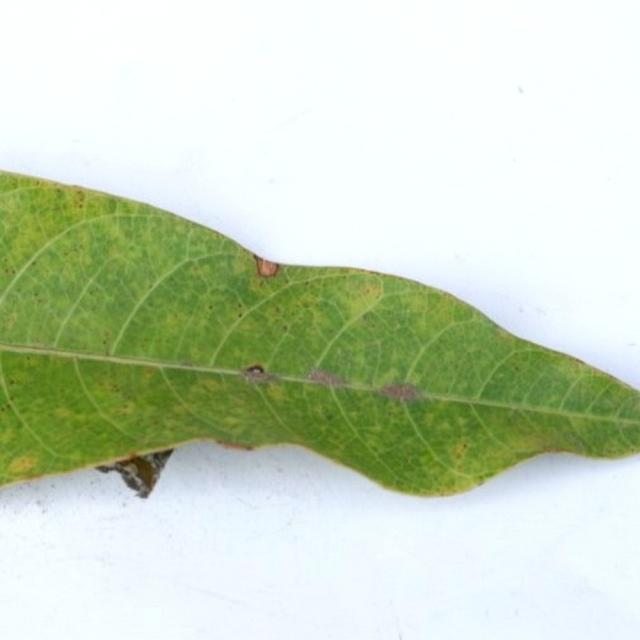Mango: (0, 173, 639, 495)
Powdery_Mildew: (70, 361, 143, 412), (580, 412, 635, 457), (338, 283, 388, 318), (332, 273, 379, 306), (184, 260, 226, 285), (157, 304, 195, 331), (306, 367, 349, 388), (561, 429, 596, 452), (379, 383, 421, 402), (428, 477, 468, 496), (303, 306, 332, 331), (7, 455, 37, 474), (15, 468, 53, 483), (74, 243, 94, 271), (456, 476, 489, 492), (379, 366, 403, 386), (230, 256, 251, 277), (432, 287, 459, 303), (265, 383, 287, 401), (29, 341, 64, 351), (199, 379, 221, 393), (4, 310, 19, 329), (73, 188, 87, 208), (452, 442, 468, 459), (52, 407, 74, 419), (540, 447, 565, 457), (478, 470, 496, 483), (568, 353, 587, 365), (143, 365, 159, 378), (224, 415, 242, 426), (367, 269, 385, 277), (5, 266, 17, 277), (179, 360, 195, 368), (101, 330, 111, 342), (513, 365, 522, 373), (1, 403, 9, 412), (302, 301, 310, 309), (33, 287, 40, 296), (33, 293, 40, 301), (33, 180, 41, 187), (8, 379, 15, 387), (326, 414, 333, 421), (258, 278, 265, 285), (236, 303, 242, 310), (237, 312, 243, 318), (283, 325, 288, 331), (208, 305, 213, 310)
